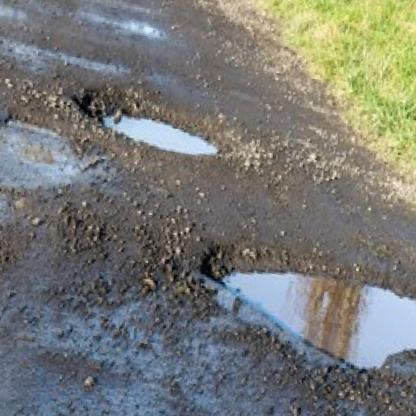pothole: (191, 239, 416, 387), (75, 89, 240, 166), (0, 106, 121, 204)
